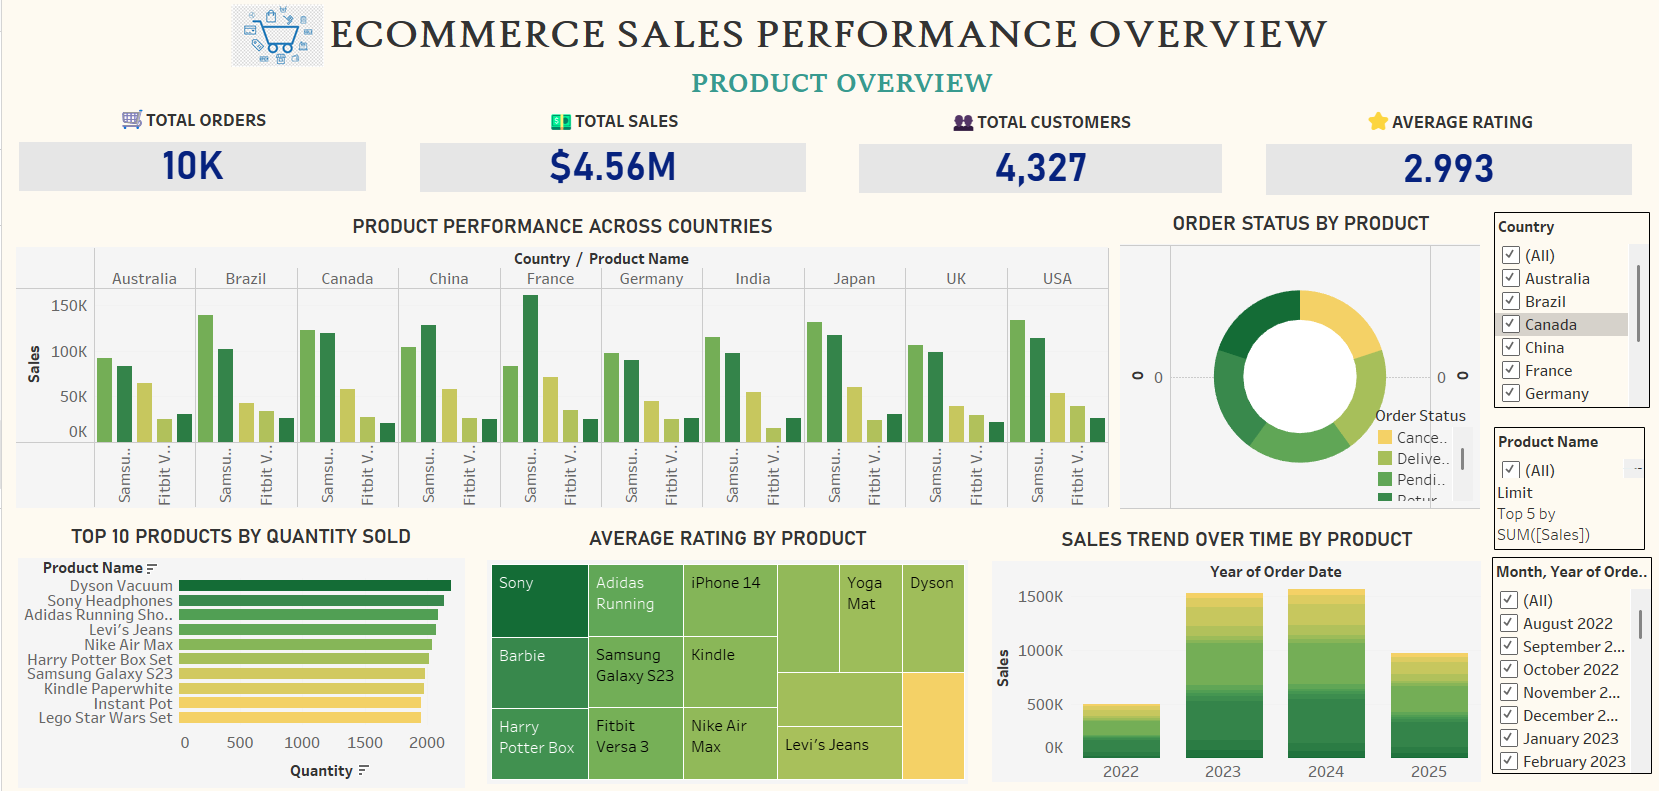

This screenshot's page, from the dashboard's own definition file:
{"tool":"tableau","page":{"name":"PRODUCT DASHBOARD","canvas":[1000,1000],"units":"permille","ordinal":1},"visuals":[{"type":"image","param":"Image/ECOMMERCE SYMBOL.jpg","box":[138.2,6.2,56.1,79.9]},{"type":"worksheet","title":"Title","mark":"Automatic","box":[7.6,10,981.8,71.2]},{"type":"worksheet","title":"SUBTITLE","mark":"Automatic","box":[22.9,93.6,967.4,44.9]},{"type":"worksheet","title":"TOTAL SALES","mark":"Automatic","box":[252.3,127.3,233,113.6]},{"type":"worksheet","title":"TOTAL CUSTOMERS","mark":"Automatic","box":[517.2,128.6,219.1,113.6]},{"type":"worksheet","title":"AVERAGE RATING","mark":"Automatic","box":[762.8,128.6,220.9,116.1]},{"type":"worksheet","title":"TOTAL ORDERS","mark":"Automatic","box":[9.7,132.3,209.4,113.6]},{"type":"worksheet","title":"ORDER STATUS","mark":"Pie","rows":["Calculation_2941132097290280977","Calculation_2941132097290297363"],"box":[674.7,263.4,217.9,373.3]},{"type":"filter","title":"SALES TREND OVER TIME BY PRODUCT","param":"[federated.0afmxs11m9kbcm1593nq411l45ka].[none:COUNTRY:nk]","box":[898,265.9,96.6,244.7]},{"type":"worksheet","title":"PRODUCT PERFORMANCE ACROSS COUNTRIES","mark":"Automatic","rows":["SALES"],"cols":["COUNTRY","PRODUCT_NAME"],"box":[8.4,267.2,659.6,369.5]},{"type":"legend","title":"ORDER STATUS","param":"[federated.0afmxs11m9kbcm1593nq411l45ka].[none:ORDER_STATUS:nk]","box":[828.6,506.9,60.4,119.9]},{"type":"filter","title":"PRODUCT PERFORMANCE ACROSS COUNTRIES","param":"[federated.0afmxs11m9kbcm1593nq411l45ka].[none:PRODUCT_NAME:nk]","box":[900.4,534.3,91.1,153.6]},{"type":"worksheet","title":"TOP 10 PRODUCTS BY QUANTITY SOLD","mark":"Bar","rows":["PRODUCT_NAME"],"cols":["QUANTITY"],"box":[9.7,654.2,269.8,330.8]},{"type":"worksheet","title":"AVERAGE RATING BY PRODUCT","mark":"Automatic","box":[292.7,656.7,290.3,323.4]},{"type":"worksheet","title":"SALES TREND OVER TIME BY PRODUCT","mark":"Bar","rows":["SALES"],"cols":["ORDER_DATE"],"box":[597.5,657.9,295.1,319.6]},{"type":"filter","title":"SALES TREND OVER TIME BY PRODUCT","param":"[federated.0afmxs11m9kbcm1593nq411l45ka].[my:ORDER_DATE:ok]","box":[899.2,696.6,96.6,270.9]}]}

Visuals, with their boxes on the dashboard's canvas, which has no fixed pixel size, in thousandths of its width and height (x1, y1, x2, y2). These are canvas units, not pixel positions in the 1659x791 screenshot, which may show the page scaled, cropped or inside an application window:
image: [138,6,194,86]
"Title" worksheet: [8,10,989,81]
"SUBTITLE" worksheet: [23,94,990,138]
"TOTAL SALES" worksheet: [252,127,485,241]
"TOTAL CUSTOMERS" worksheet: [517,129,736,242]
"AVERAGE RATING" worksheet: [763,129,984,245]
"TOTAL ORDERS" worksheet: [10,132,219,246]
"ORDER STATUS" worksheet (Pie marks): [675,263,893,637]
"SALES TREND OVER TIME BY PRODUCT" filter: [898,266,995,511]
"PRODUCT PERFORMANCE ACROSS COUNTRIES" worksheet: [8,267,668,637]
"ORDER STATUS" legend: [829,507,889,627]
"PRODUCT PERFORMANCE ACROSS COUNTRIES" filter: [900,534,992,688]
"TOP 10 PRODUCTS BY QUANTITY SOLD" worksheet (Bar marks): [10,654,280,985]
"AVERAGE RATING BY PRODUCT" worksheet: [293,657,583,980]
"SALES TREND OVER TIME BY PRODUCT" worksheet (Bar marks): [598,658,893,978]
"SALES TREND OVER TIME BY PRODUCT" filter: [899,697,996,968]
